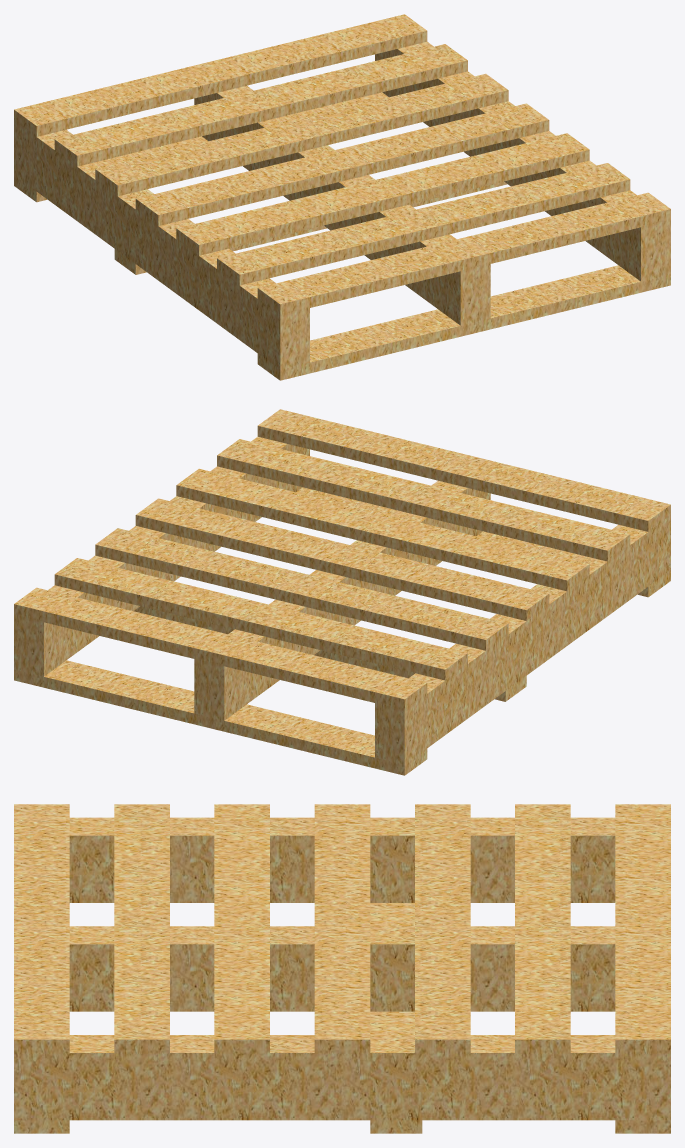
Rendered from pallet.dae.
3 renders of one model, top to bottom at view 1: azimuth 30°, elevation 25°; view 2: azimuth 150°, elevation 25°; view 3: azimuth 270°, elevation 25°, orthographic. The views are drawn at different scales.
Parts seen in each view (by area): view 1: group_0; view 2: group_0; view 3: group_0.
Part boxes in pixels (x1,y1,x2,y2): group_0: (14,14,670,380); group_0: (14,409,670,775); group_0: (14,804,670,1133).
Bounding box in the file's own units: 29.53 × 34.84 × 5.51.
1 material, 1 textured.
